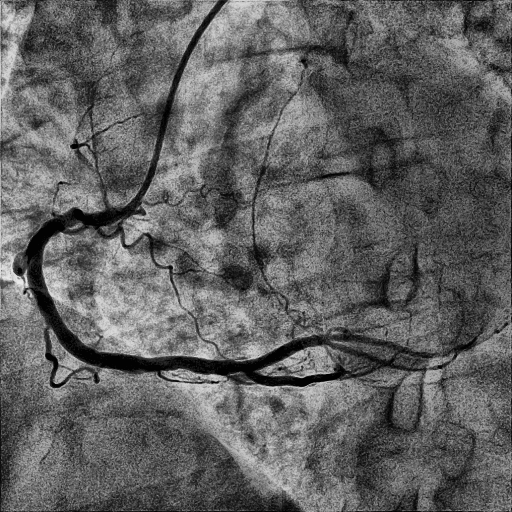pborca: (249, 334, 464, 370)
pda: (244, 364, 377, 387)
rca: (25, 206, 254, 376)
